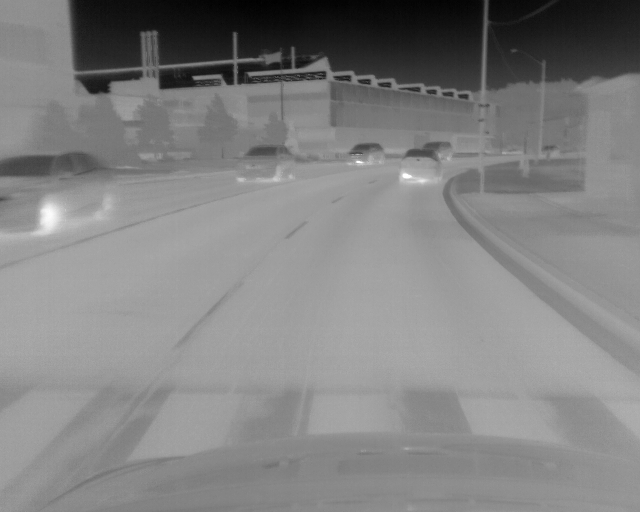car: (1, 151, 118, 238), (233, 145, 295, 185), (400, 148, 439, 187), (347, 142, 386, 168), (424, 142, 453, 160), (539, 143, 560, 158)
